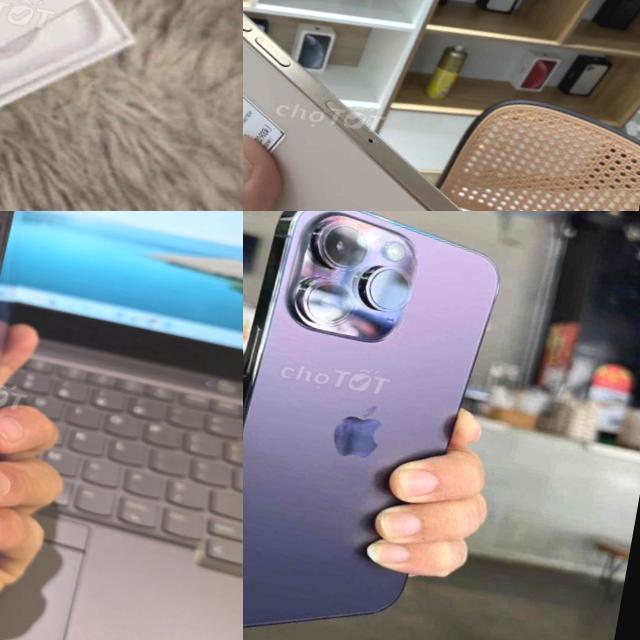gen_14: (243, 211, 519, 640)
gen_16: (243, 0, 577, 211), (0, 0, 215, 211)
